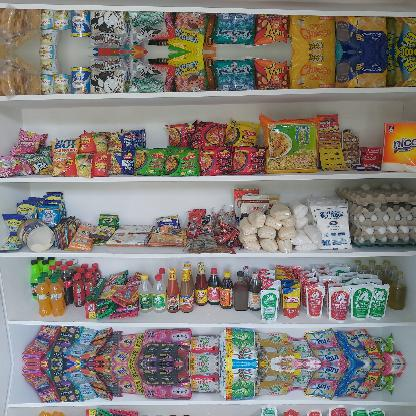Koko-Krunch: (16, 218, 54, 252)
